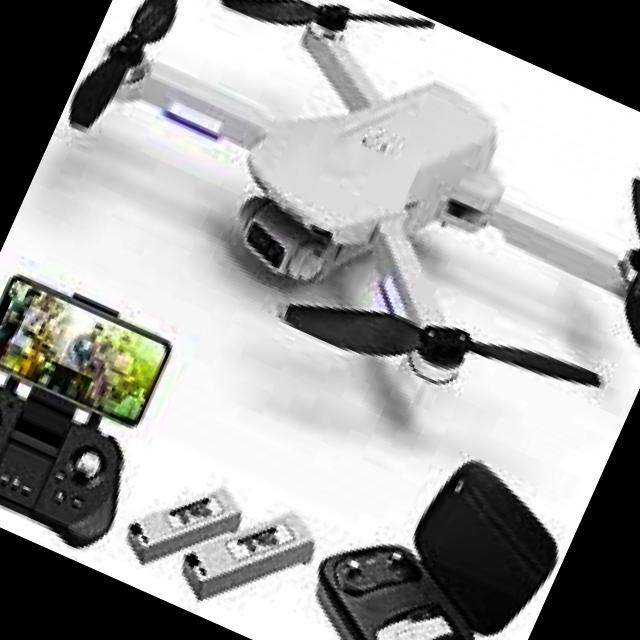drone: (6, 0, 640, 497)
